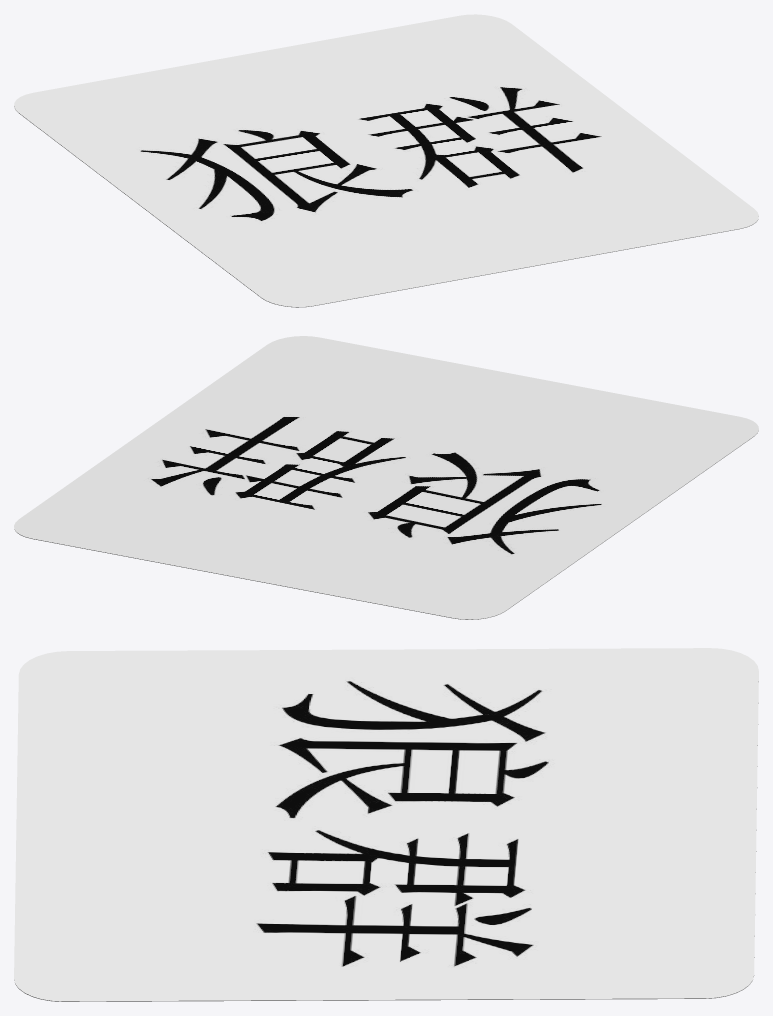
File: LangQun.FBX
3 views of the same model, one above another, from view 1: azimuth 30°, elevation 25°; view 2: azimuth 150°, elevation 25°; view 3: azimuth 270°, elevation 25° (orthographic). The views are drawn at different scales.
Parts seen in each view (by area): view 1: Rectangle001; view 2: Rectangle001; view 3: Rectangle001.
Part boxes in pixels (x1,y1,x2,y2): Rectangle001: (14,14,758,307); Rectangle001: (14,336,758,619); Rectangle001: (14,648,758,1001).
Bounding box in the file's own units: 60.32 × 3.91 × 60.38.
